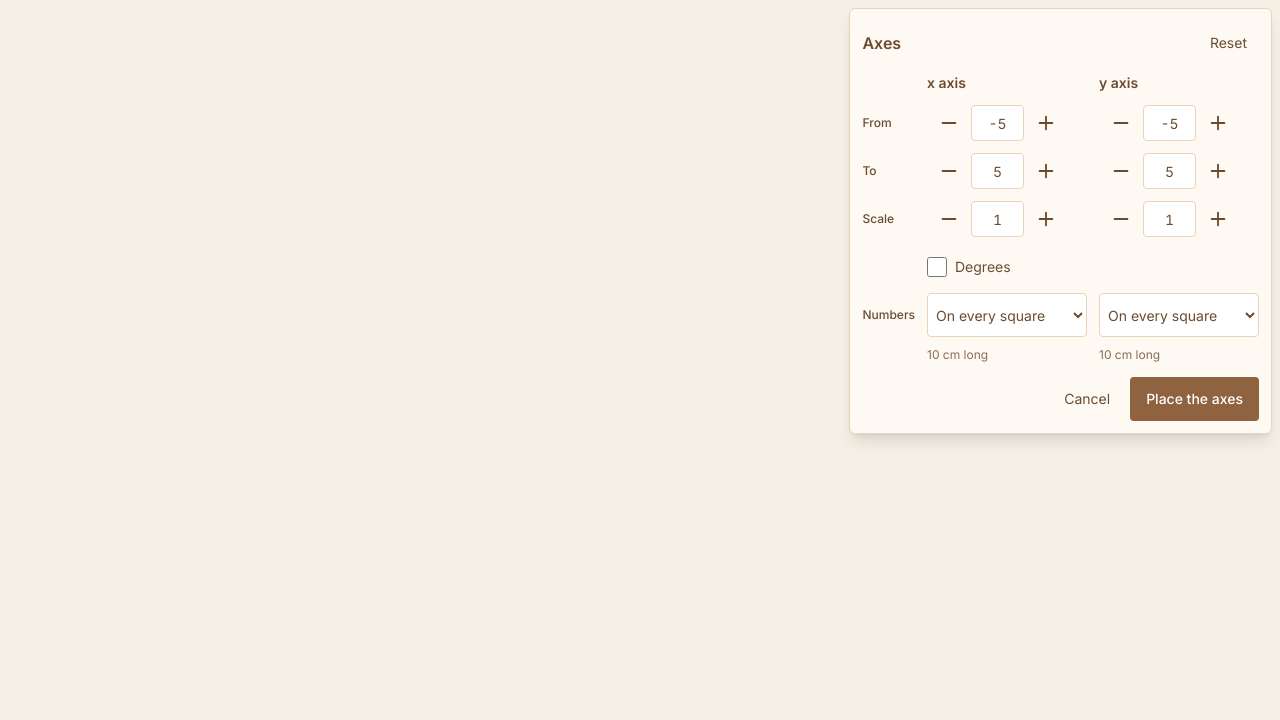
Scenario: AxesPanel › keeps the axis the same length when a square is worth more, and shows its new numbers
This screenshot has width=1280, height=720.
Click the 1st button named "Each square worth more".
click(1046, 219)  # box [1024,197,1068,241]
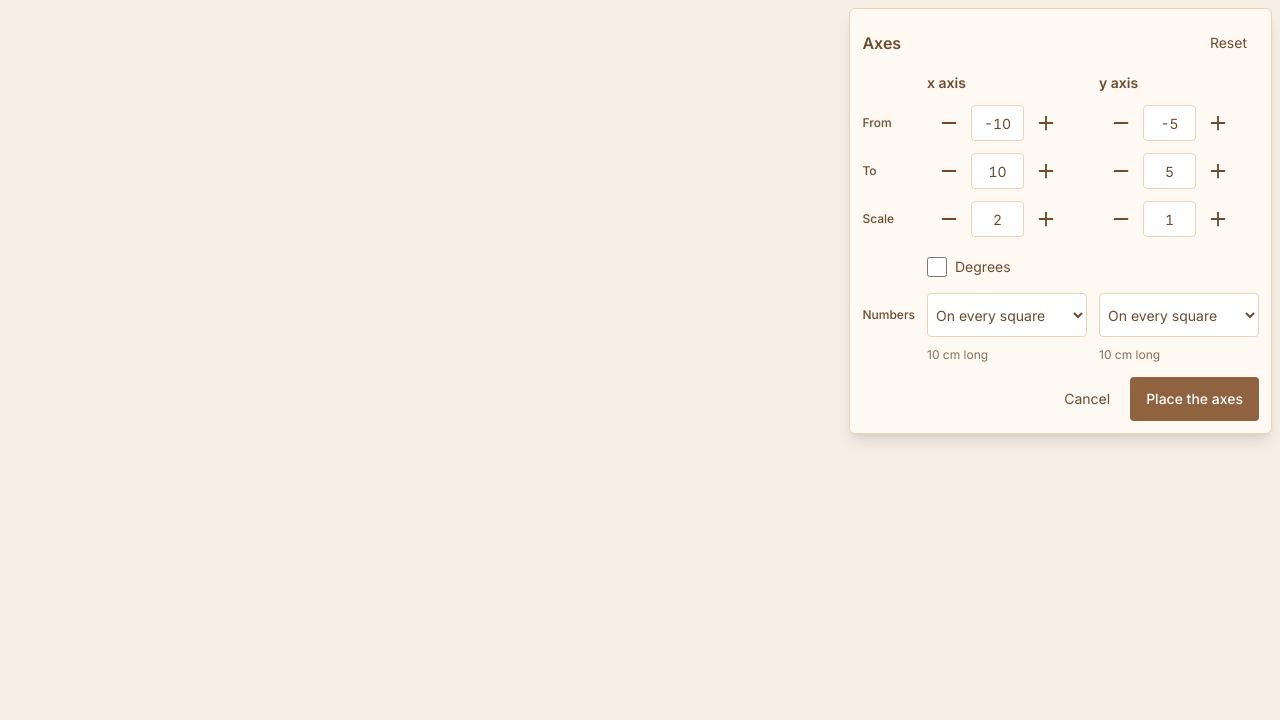
Result: the 1st field named "Scale" holds "2" at [971,201,1024,237]
Result: the 1st field named "From" holds "-10" at [971,105,1024,141]
Result: the 1st field named "To" holds "10" at [971,153,1024,189]
